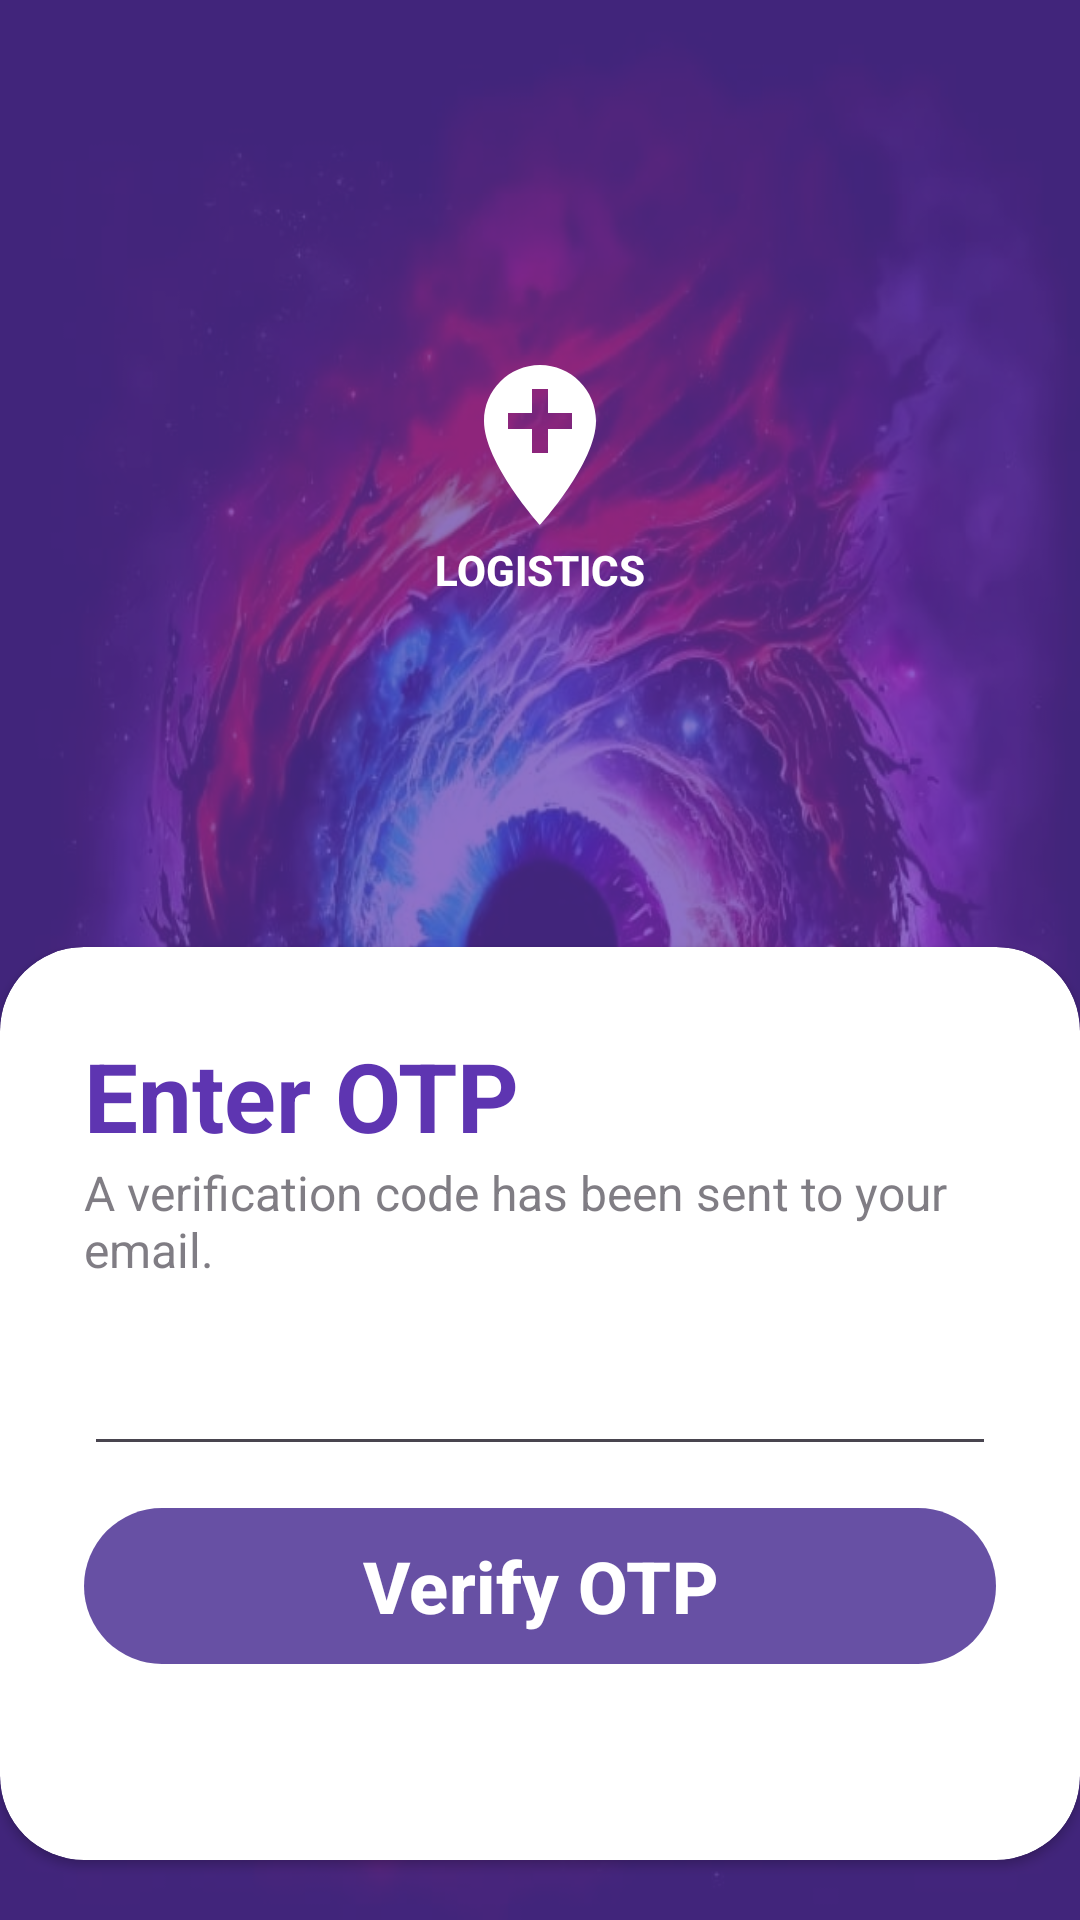

Where to tap for icons on this 1080*1920 app screen, as (x,y):
location: (540,445)
